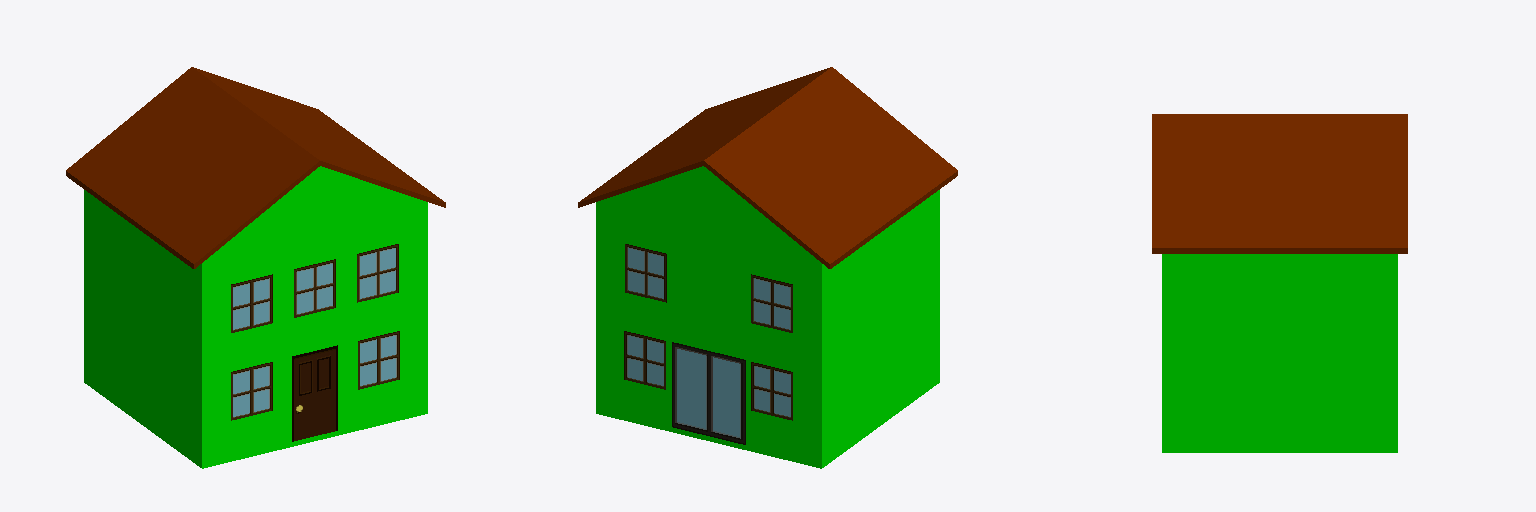
3 views of the same model, side by side, from view 1: azimuth 30°, elevation 25°; view 2: azimuth 150°, elevation 25°; view 3: azimuth 270°, elevation 25° (orthographic).
Visible parts, largest first — view 1: 2FloorHouse; view 2: 2FloorHouse; view 3: 2FloorHouse.
Part boxes in pixels (x1,y1,x2,y2): 2FloorHouse: (66,67,445,468); 2FloorHouse: (578,67,957,468); 2FloorHouse: (1152,114,1407,452).
Size of the model in its own units: 8.38 by 9.03 by 7.38.
5 materials, 3 textured.